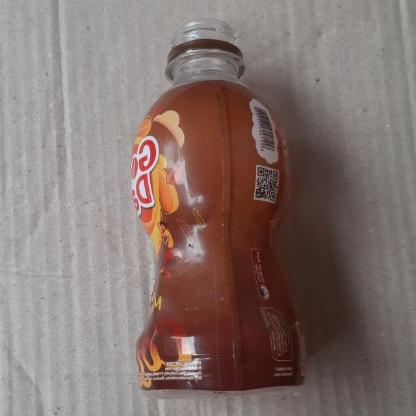Plastic Bottle: (132, 24, 312, 402)
